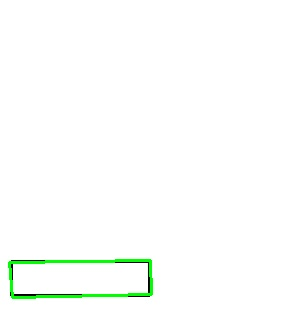line_segment: (9, 259, 152, 298)
